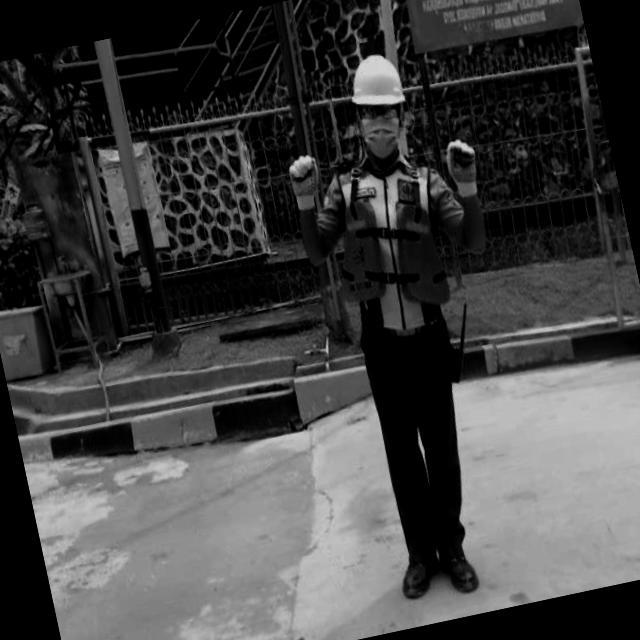goggles_on: (352, 98, 410, 126)
